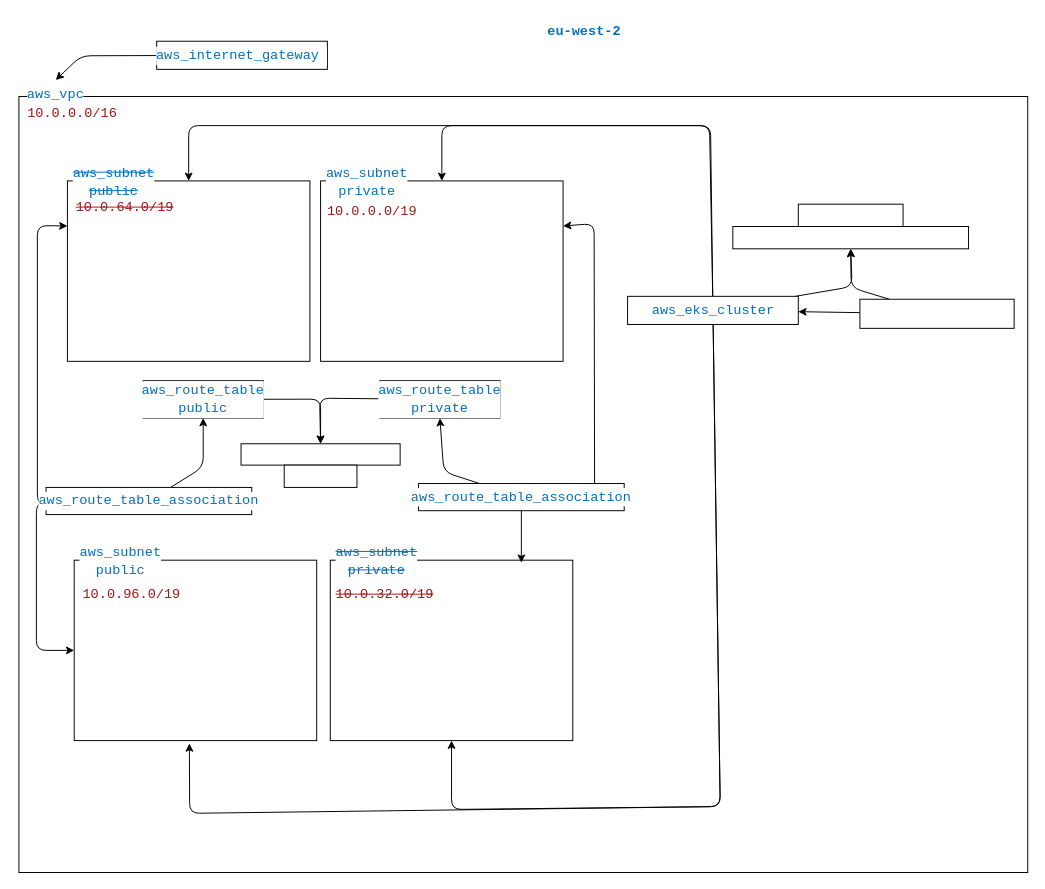
This 1045x889 diagram has some shape labels left out. Here are the shapes that lost their labels. From the top down, the box of each, then its label:
(797, 203, 903, 226): aws_iam_role
(732, 226, 969, 249): aws_iam_role_policy_attachment
(859, 298, 1014, 328): aws_eks_node_group
(240, 443, 400, 465): aws_nat_gateway
(283, 464, 357, 487): aws_eip
